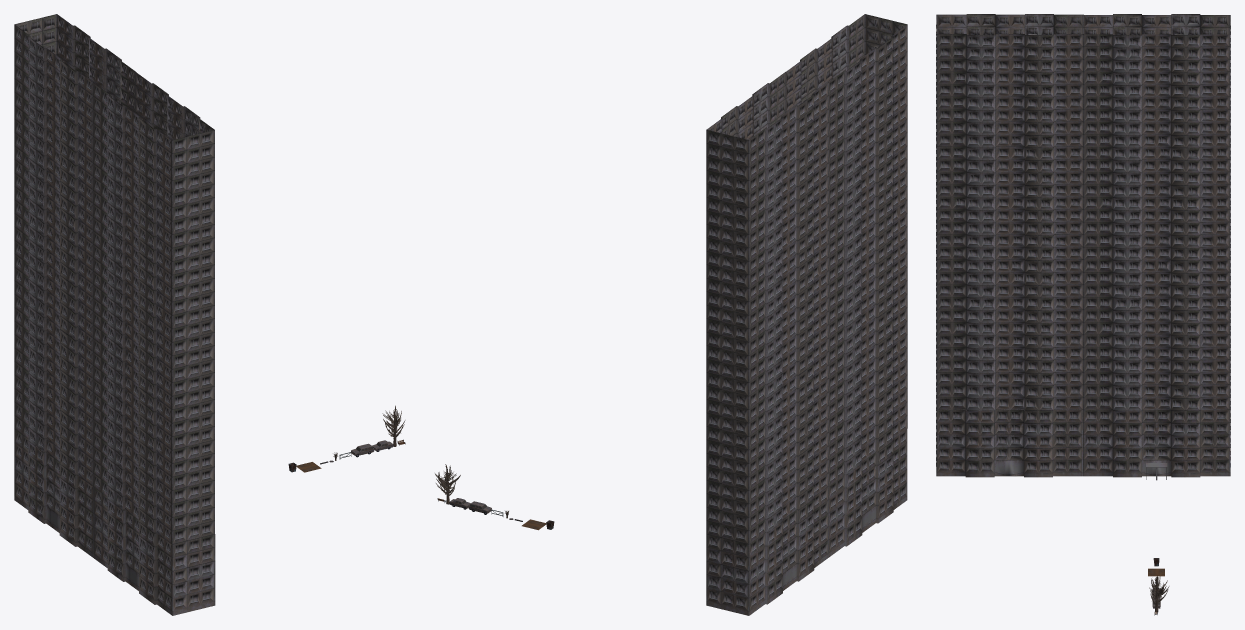
Rendered from StreetEnvirenment.fbx.
3 renders of one model, left to right at view 1: azimuth 30°, elevation 25°; view 2: azimuth 150°, elevation 25°; view 3: azimuth 270°, elevation 25°, orthographic. The views are drawn at different scales.
Parts seen in each view (by area): view 1: BUILDING.004, BUILDING; view 2: BUILDING.004, BUILDING; view 3: BUILDING.004, BUILDING.
Part boxes in pixels (box(x1,y1,x2,y2)): BUILDING.004: box(14, 14, 214, 544); BUILDING: box(14, 429, 215, 615); BUILDING.004: box(706, 14, 907, 543); BUILDING: box(706, 429, 907, 615); BUILDING.004: box(936, 14, 1230, 410); BUILDING: box(936, 407, 1230, 477).
Bounding box in the file's own units: 8215 × 10534 × 6363.
